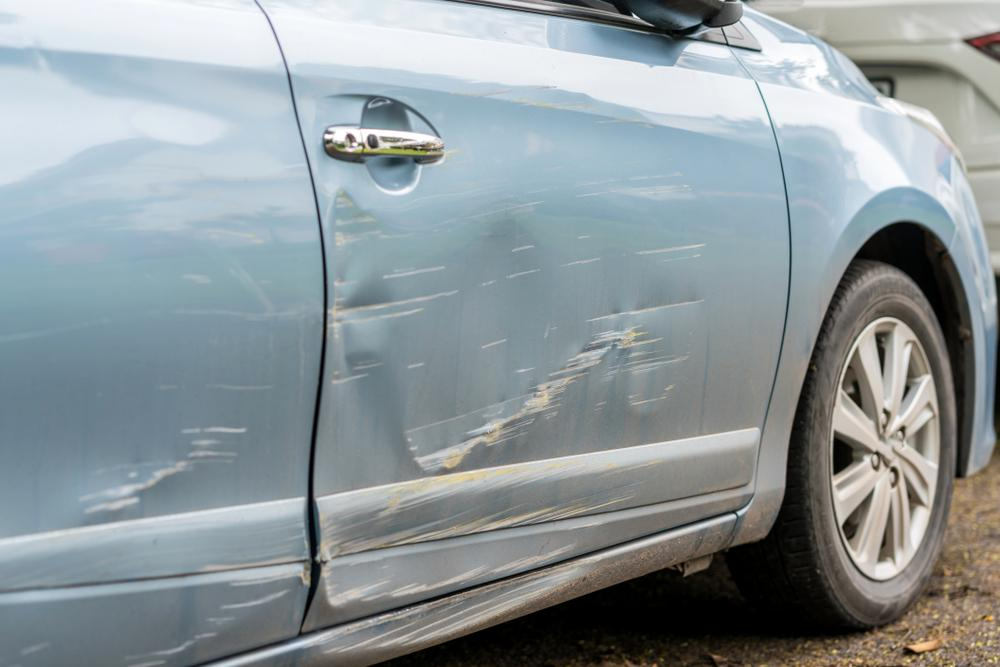dent: (325, 187, 716, 474)
scratch: (320, 474, 645, 604), (142, 522, 317, 667), (325, 565, 573, 647), (79, 415, 255, 521)
